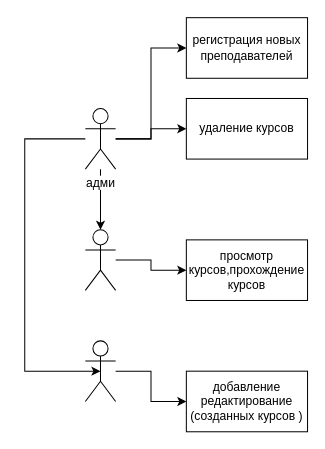
The diagram is 325 pixels wide and 449 high, and some of its shapes have lost their labels. Each missing label, with the centre of its shape:
пользователь: (x=100, y=259)
преподаватель: (x=100, y=370)
